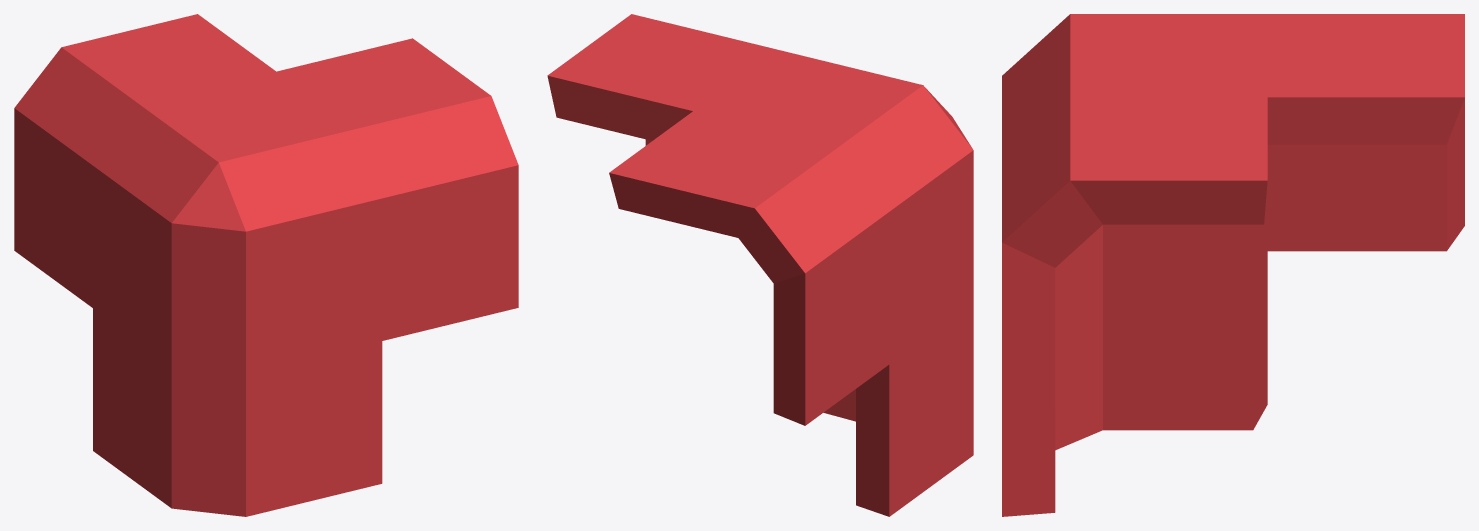
File: Hummer_stage_2_piece.fbx
The picture shows the model from 3 angles, left to right: view 1: azimuth 30°, elevation 25°; view 2: azimuth 150°, elevation 25°; view 3: azimuth 270°, elevation 25°; orthographic projection. The views are drawn at different scales.
Parts seen in each view (by area): view 1: stage_2_piece; view 2: stage_2_piece; view 3: stage_2_piece.
Part boxes in pixels (box(x1,y1,x2,y2)): stage_2_piece: box(14, 14, 518, 516); stage_2_piece: box(547, 14, 973, 516); stage_2_piece: box(1002, 14, 1464, 516).
Bounding box in the file's own units: 40 × 40.29 × 40.
